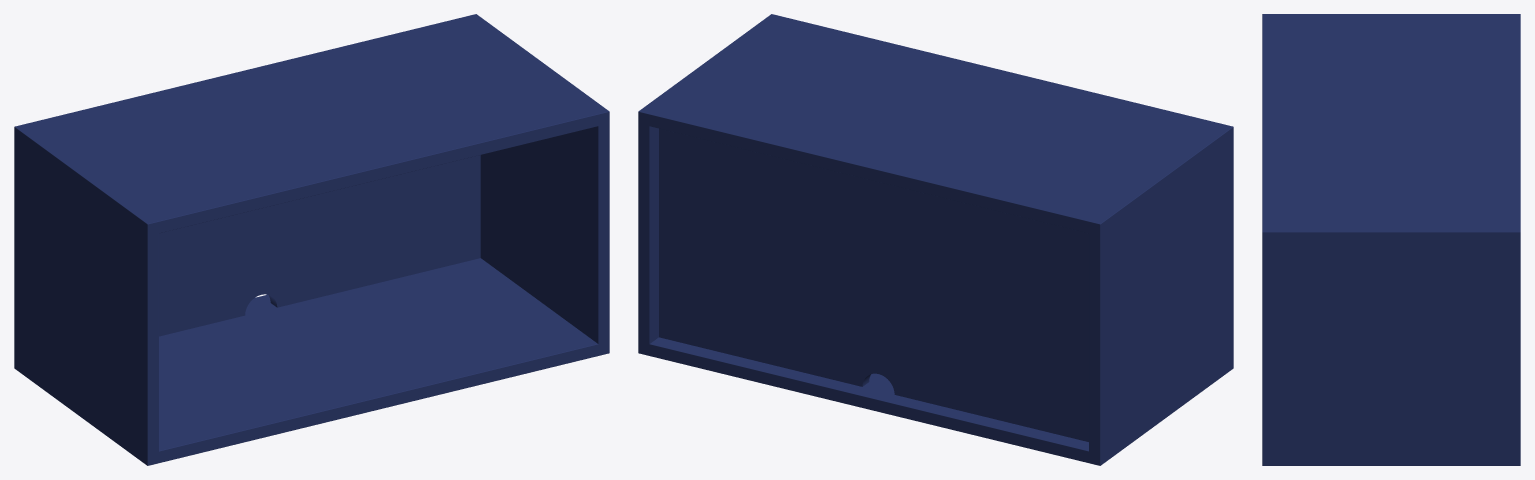
The model's file is MOD_2X1_A_B_AP_AF.glb.
3 views of the same model, side by side, from view 1: azimuth 30°, elevation 25°; view 2: azimuth 150°, elevation 25°; view 3: azimuth 270°, elevation 25° (orthographic). The views are drawn at different scales.
Size of the model in its own units: 720 by 360 by 360.
